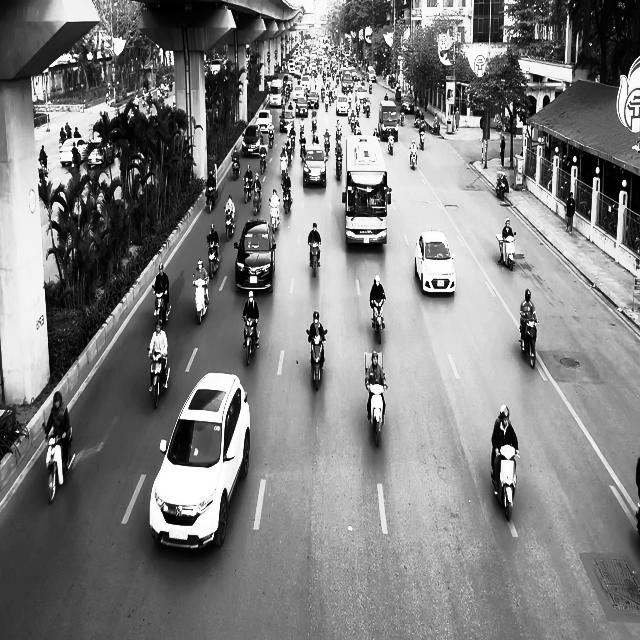bus: (342, 134, 392, 245)
car: (149, 372, 251, 551), (234, 218, 276, 292), (415, 230, 456, 294), (303, 144, 328, 188), (242, 125, 263, 156), (256, 110, 273, 132), (280, 109, 294, 132), (295, 96, 309, 117), (336, 94, 349, 115)
motorbike: (491, 444, 520, 522), (44, 426, 73, 504), (366, 383, 388, 447), (147, 348, 170, 409), (307, 328, 328, 390), (519, 319, 539, 368), (242, 316, 260, 366), (496, 232, 517, 271), (193, 273, 209, 324), (371, 298, 386, 344), (152, 287, 171, 323), (207, 236, 220, 278), (309, 239, 321, 277), (223, 207, 236, 241), (269, 198, 280, 232), (496, 172, 508, 199), (206, 186, 218, 213), (282, 184, 293, 213), (243, 177, 254, 203), (253, 184, 262, 214), (335, 150, 343, 179), (260, 148, 268, 174), (232, 157, 240, 180), (410, 148, 418, 170), (323, 134, 331, 155), (388, 131, 394, 155), (419, 128, 425, 150)
